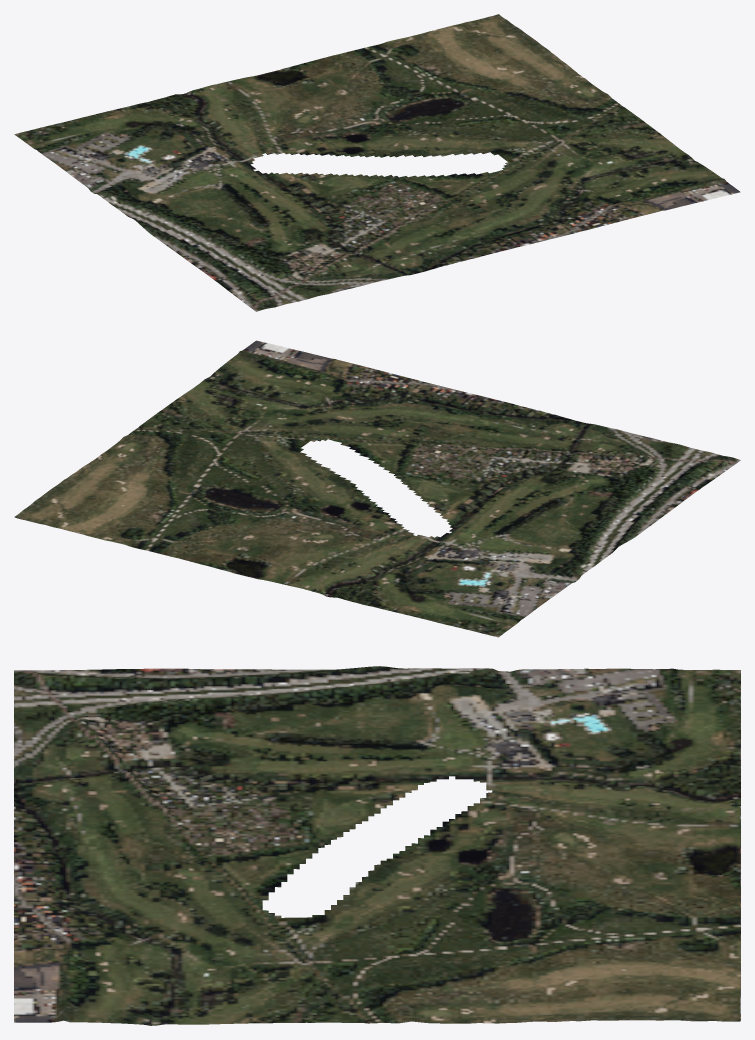
File: yellow_1_wide.glb
3 views of the same model, one above another, from view 1: azimuth 30°, elevation 25°; view 2: azimuth 150°, elevation 25°; view 3: azimuth 270°, elevation 25° (orthographic). The views are drawn at different scales.
Parts seen in each view (by area): view 1: wide; view 2: wide; view 3: wide.
Boxes of the visible parts, bbox=[...] form: wide: bbox=[14, 14, 740, 311]; wide: bbox=[14, 340, 740, 637]; wide: bbox=[14, 666, 740, 1025].
Bounding box in the file's own units: 1080 × 9.85 × 936.
Materials: 1 (1 with a texture image).
